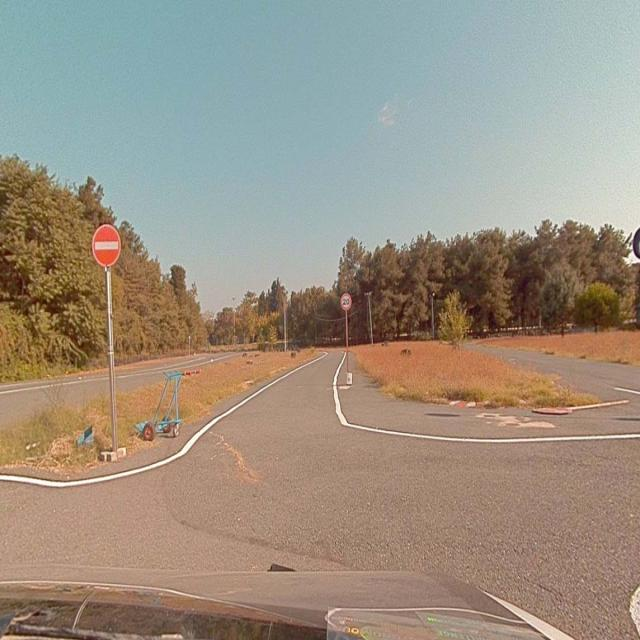20: (341, 292, 352, 310)
girisyok: (92, 224, 121, 267)
